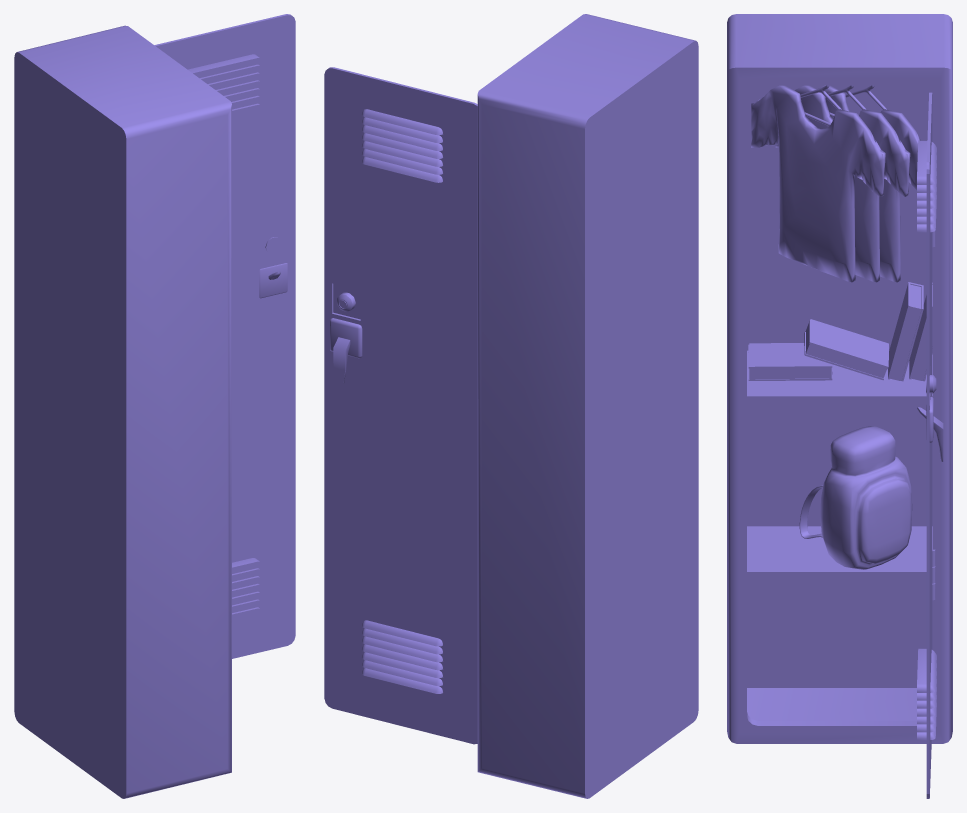
Rendered from Locker Open.fbx.
The picture shows the model from 3 angles, left to right: view 1: azimuth 30°, elevation 25°; view 2: azimuth 150°, elevation 25°; view 3: azimuth 270°, elevation 25°; orthographic projection.
Visible parts, largest first — view 1: Cube.010, Cube.012, Cube.011, Cube.013, Cube.014; view 2: Cube.010, Cube.012, Cube.011, Cube.013, Cube.014; view 3: Cube.010, Plane.005, Cube.020, Cube.017, Plane.004, Cube.016, Cube.012, Plane.002, Cube.026, Cube.015, Cube.019, Cube.011 (+3 smaller).
Boxes of the visible parts, box(x1,y1,x2,y2) form: Cube.010: box(14, 25, 231, 798); Cube.012: box(154, 14, 295, 658); Cube.011: box(188, 54, 262, 117); Cube.013: box(232, 558, 262, 620); Cube.014: box(259, 263, 287, 298); Cube.010: box(477, 14, 698, 798); Cube.012: box(324, 67, 477, 744); Cube.011: box(362, 109, 442, 182); Cube.013: box(362, 620, 442, 693); Cube.014: box(330, 318, 362, 358); Cube.010: box(727, 14, 952, 743); Plane.005: box(751, 85, 885, 282); Cube.020: box(820, 426, 912, 569); Cube.017: box(747, 526, 932, 578); Plane.004: box(775, 85, 910, 282); Cube.016: box(747, 350, 932, 402); Cube.012: box(926, 92, 932, 798); Plane.002: box(817, 85, 920, 282); Cube.026: box(804, 319, 888, 380); Cube.015: box(748, 343, 832, 380); Cube.019: box(887, 282, 923, 381); Cube.011: box(917, 140, 936, 232).
Bounding box in the file's own units: 101 × 242 × 73.19.
